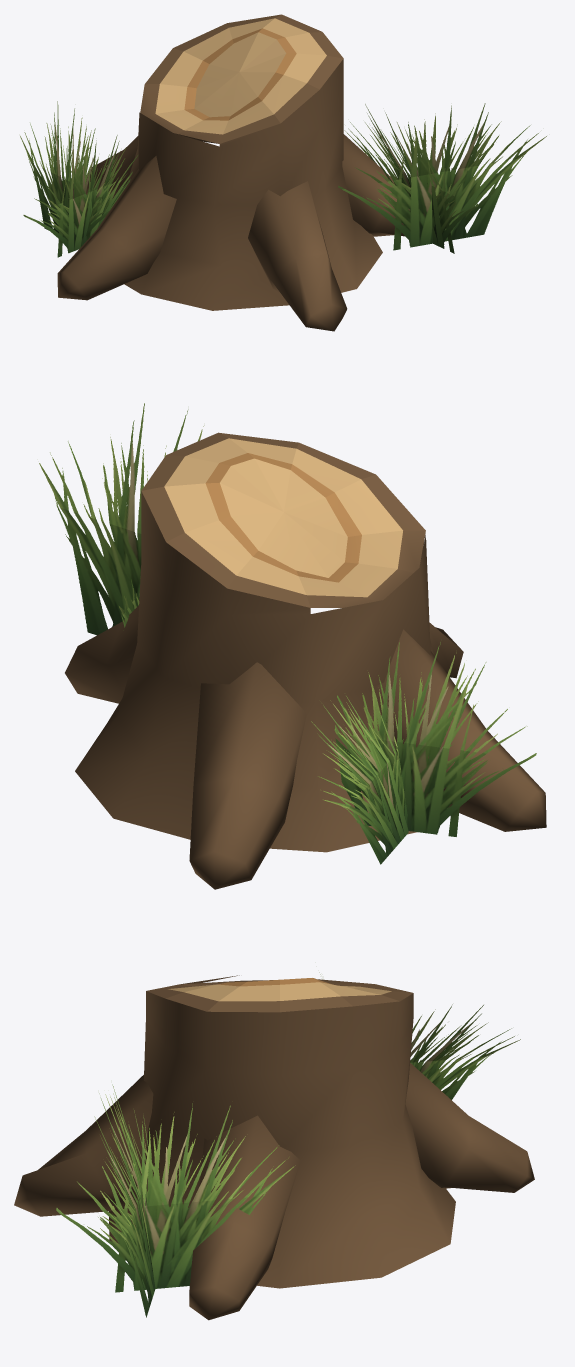
File: stump.glb
3 renders of one model, top to bottom at view 1: azimuth 30°, elevation 25°; view 2: azimuth 150°, elevation 25°; view 3: azimuth 270°, elevation 25°, orthographic. The views are drawn at different scales.
Visible parts, largest first — view 1: stump_mesh; view 2: stump_mesh; view 3: stump_mesh.
Part boxes in pixels (box(x1,y1,x2,y2)): stump_mesh: box(20, 14, 546, 331); stump_mesh: box(39, 403, 546, 889); stump_mesh: box(14, 972, 534, 1320).
Bounding box in the file's own units: 0.7886 × 0.3404 × 0.6613.
Materials: 4 (1 with a texture image).
